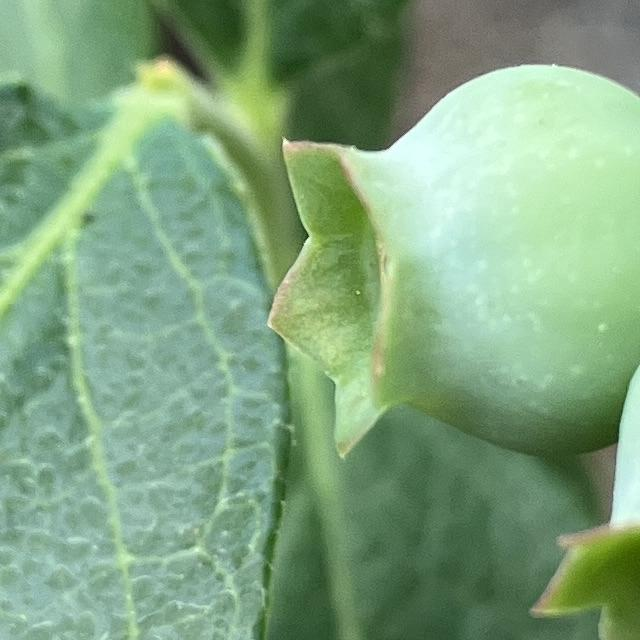Blueberries: (250, 57, 640, 475)
